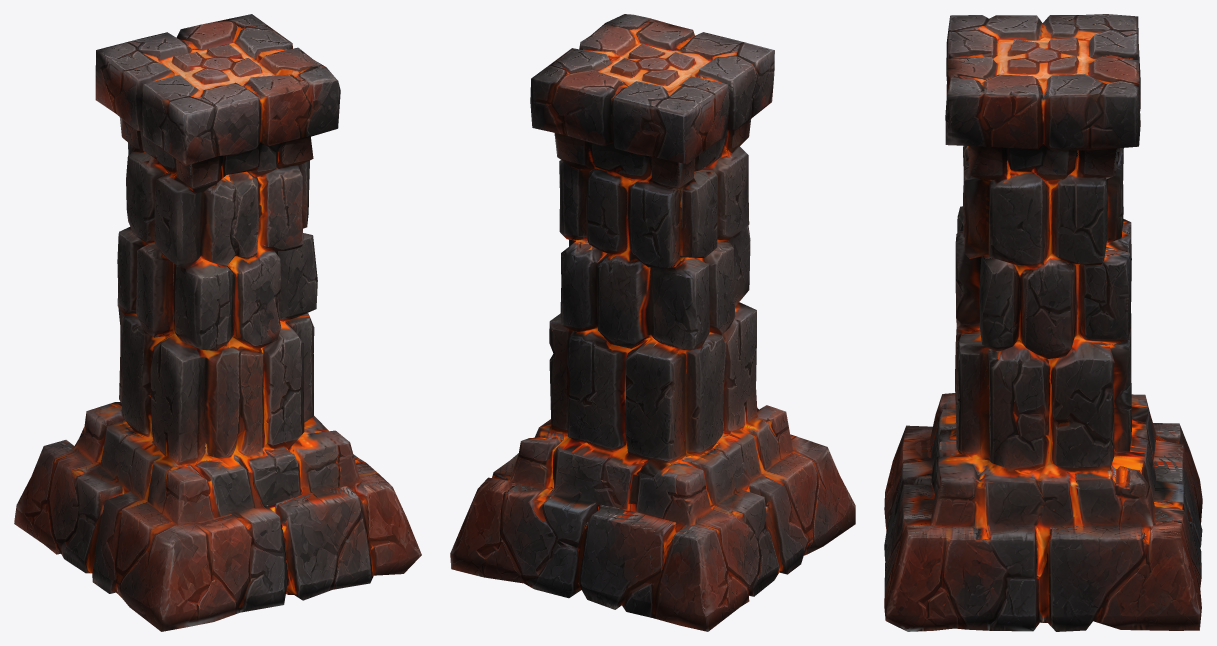
Rendered from Tile_Lava_Pillar.fbx.
The picture shows the model from 3 angles, left to right: view 1: azimuth 30°, elevation 25°; view 2: azimuth 150°, elevation 25°; view 3: azimuth 270°, elevation 25°; orthographic projection. The views are drawn at different scales.
Visible parts, largest first — view 1: texture_mapping; view 2: texture_mapping; view 3: texture_mapping.
Boxes of the visible parts, x1,y1,x2,y2 form: texture_mapping: (14, 14, 421, 631); texture_mapping: (450, 14, 855, 631); texture_mapping: (884, 14, 1202, 631).
Size of the model in its own units: 0.559 by 0.5595 by 0.9968.
Materials: 1 (1 with a texture image).
